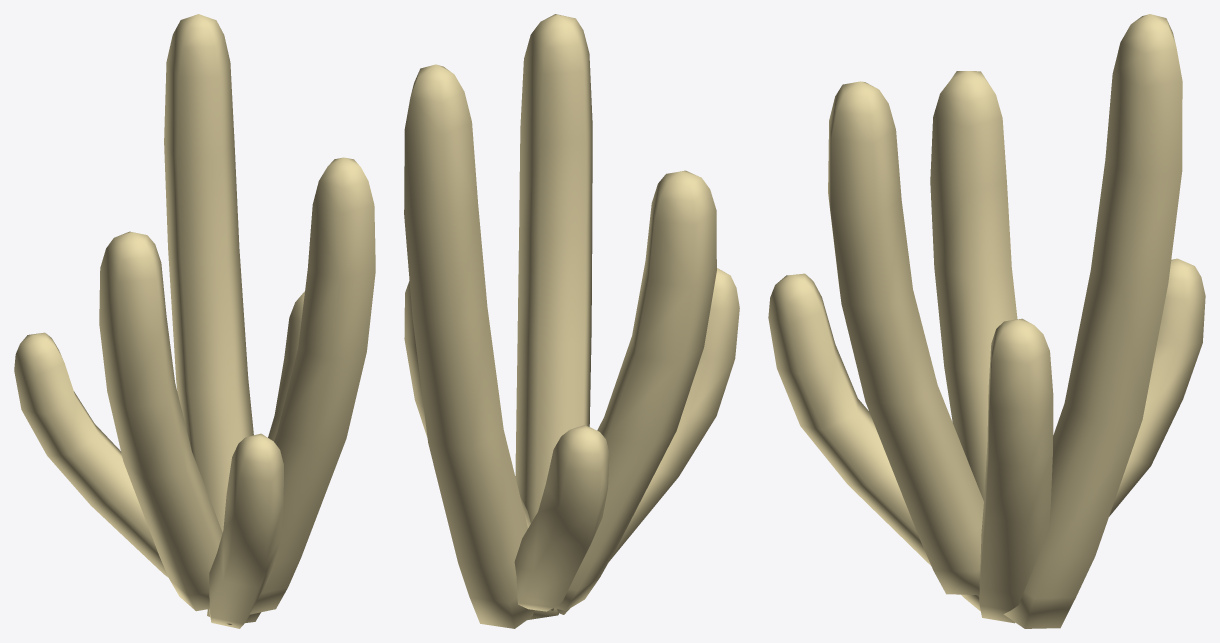
File: Coral1_Bogdan.fbx
3 renders of one model, left to right at view 1: azimuth 30°, elevation 25°; view 2: azimuth 150°, elevation 25°; view 3: azimuth 270°, elevation 25°, orthographic. The views are drawn at different scales.
Visible parts, largest first — view 1: Coral1; view 2: Coral1; view 3: Coral1.
Part boxes in pixels (x1,y1,x2,y2): Coral1: (14,14,375,628); Coral1: (404,14,739,628); Coral1: (768,14,1205,628).
Size of the model in its own units: 41.28 by 86 by 55.06.
